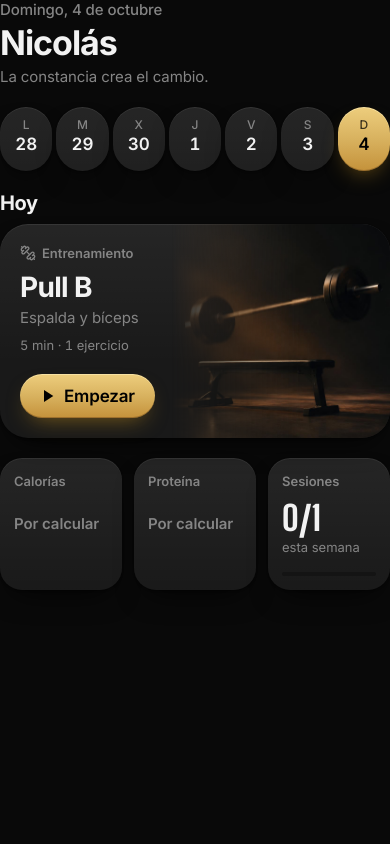
dashboard home overview › greets with the date and the name, and shows today's session as the primary action
Later steps or results of the test are not shown.
Check: the heading "Domingo, 4 de octubre" is shown, box 0,0 -> 162,19
Check: the text "Nicolás" is shown, box 0,22 -> 117,63
Click the button with aria-label "Ver la sesión Pull B · Espalda y bíceps": (16, 233) 0,224 -> 389,438
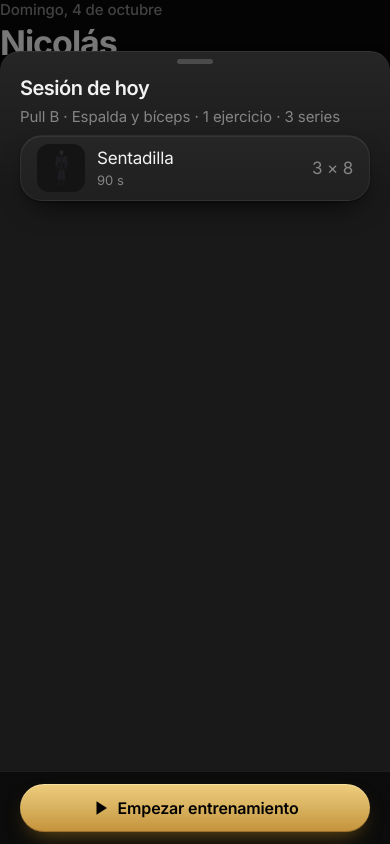
Check: the heading "Sesión de hoy" is shown, box 20,76 -> 149,100
Check: the text "Sentadilla" is shown, box 97,148 -> 174,168
